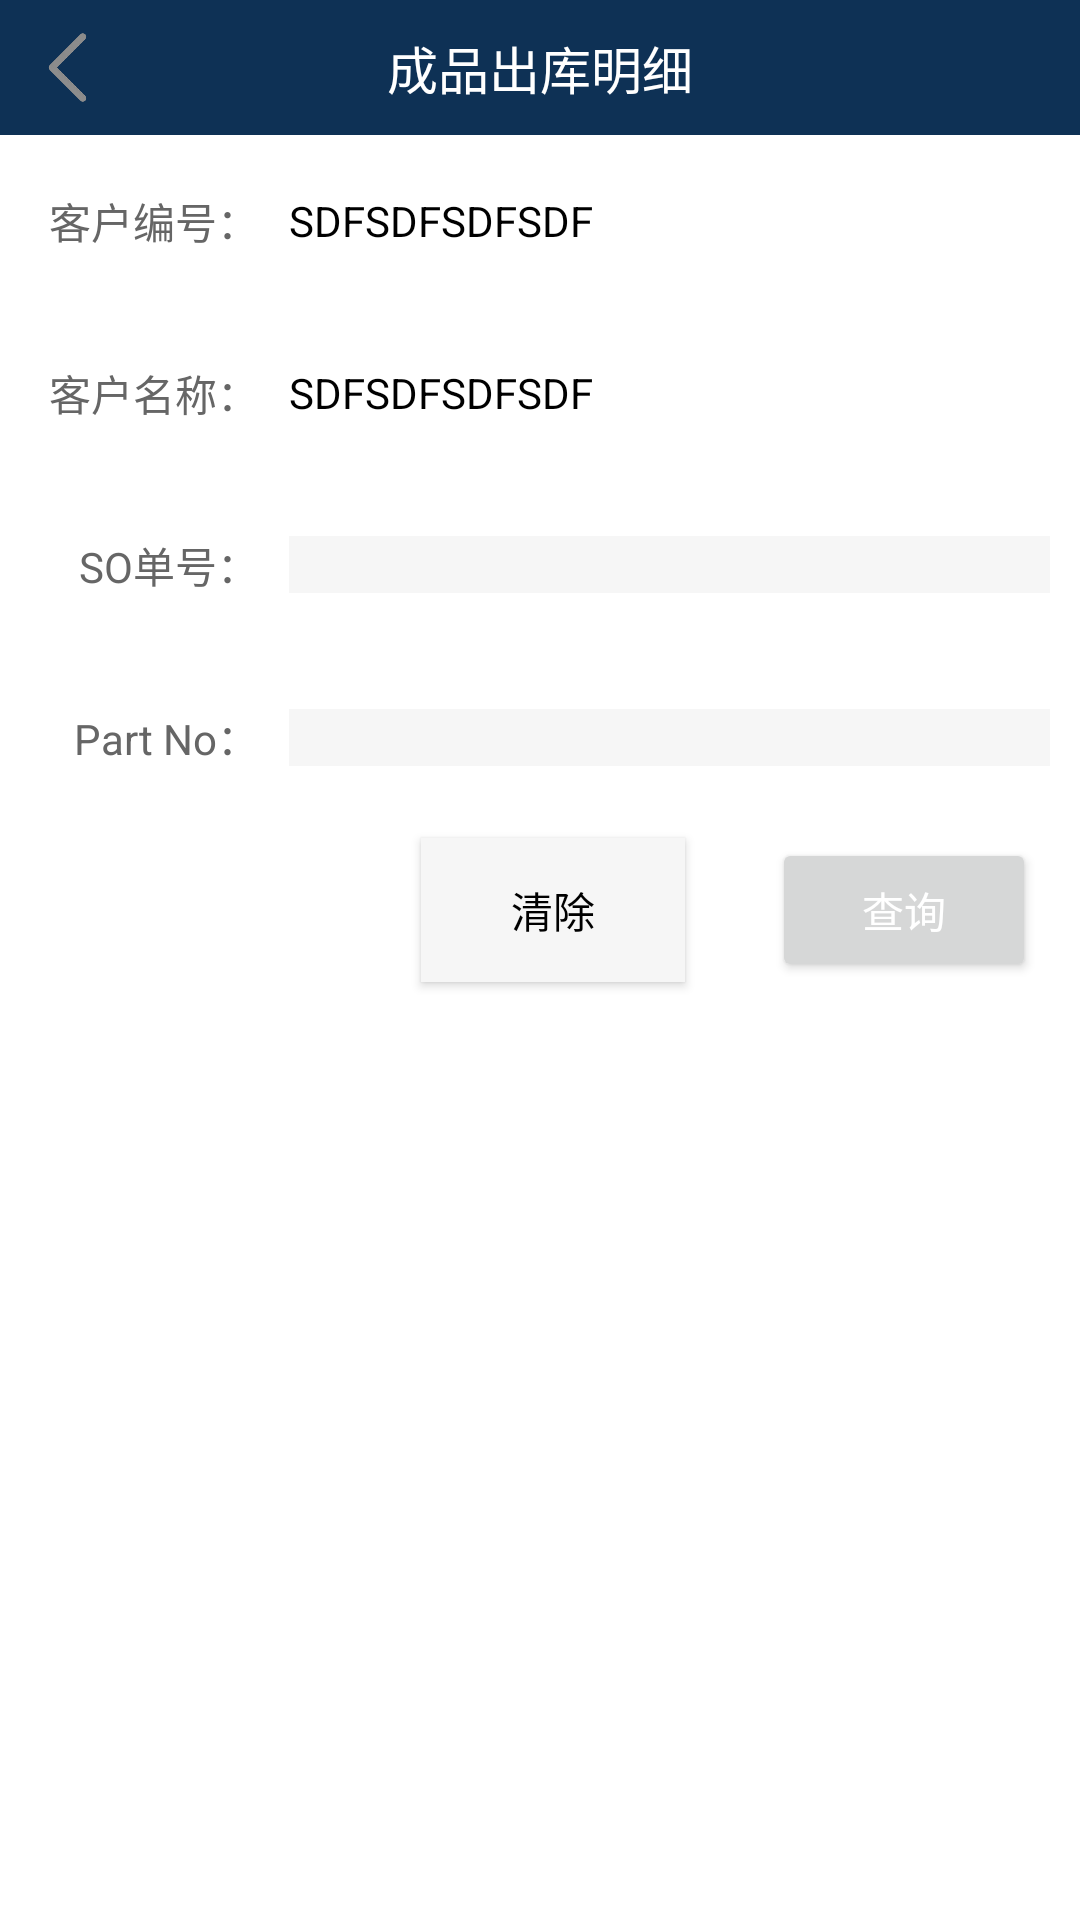

Icon click points for this 1080x1920 phone screenshot, format (x=x, y=y):
exit: (x=67, y=67)
